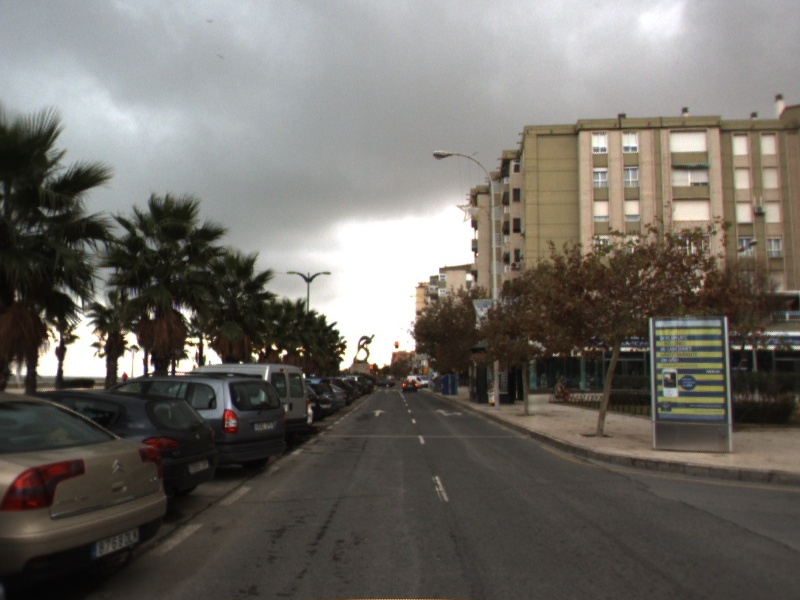STRAIGHT: (369, 408, 388, 418)
STRAIGHT_RIGHT: (433, 407, 465, 419)
